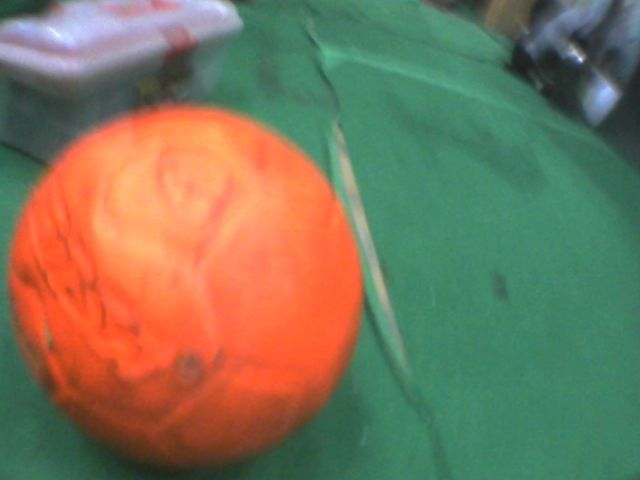ball: (1, 95, 381, 480)
